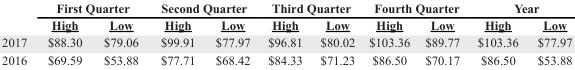table: (1, 0, 571, 66)
table column: (467, 0, 527, 66), (36, 0, 92, 66), (92, 0, 148, 66), (148, 0, 204, 66), (361, 0, 416, 66), (204, 0, 258, 66), (258, 0, 310, 66), (310, 0, 361, 66), (416, 0, 467, 66), (527, 0, 571, 66), (1, 0, 36, 66)
table column header: (1, 0, 571, 33)
table row: (1, 16, 571, 33), (1, 33, 571, 50), (1, 0, 571, 16), (1, 50, 571, 66)
table spanning cell: (36, 0, 148, 16), (148, 0, 258, 16), (361, 0, 467, 16), (467, 0, 571, 16), (258, 0, 361, 16)
